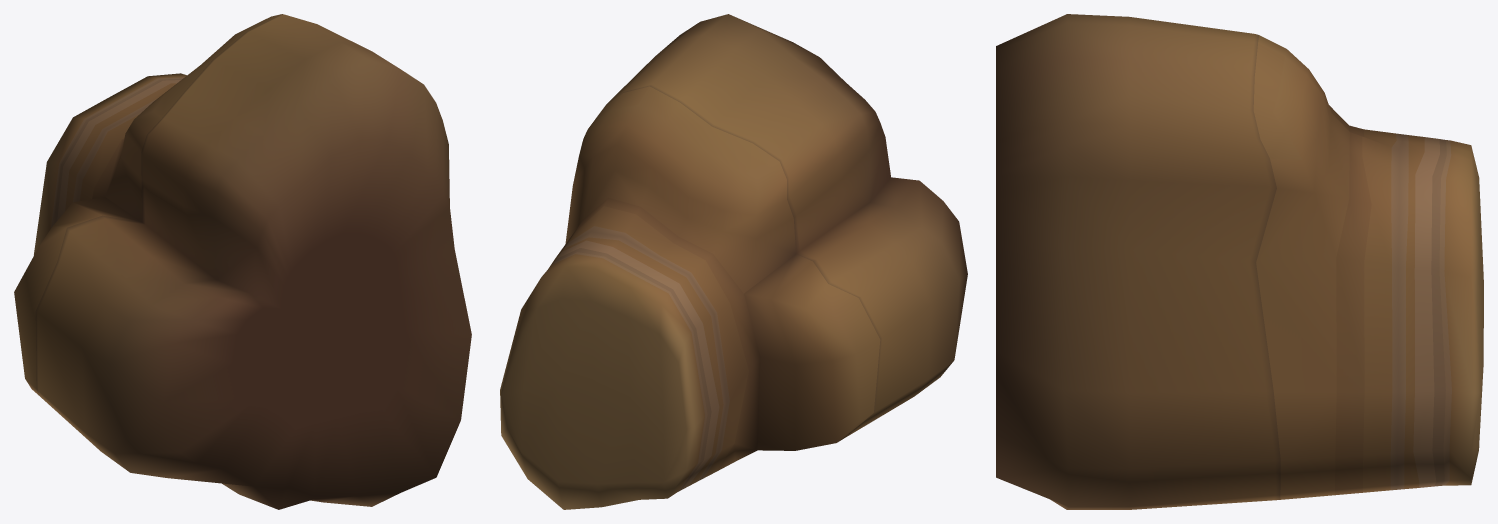
File: SandStoneMesaLarge.003.glb
3 views of the same model, side by side, from view 1: azimuth 30°, elevation 25°; view 2: azimuth 150°, elevation 25°; view 3: azimuth 270°, elevation 25° (orthographic). The views are drawn at different scales.
Visible parts, largest first — view 1: SandStoneMesaLarge.003; view 2: SandStoneMesaLarge.003; view 3: SandStoneMesaLarge.003.
Boxes of the visible parts, box(x1,y1,x2,y2) form: SandStoneMesaLarge.003: box(14, 14, 471, 509); SandStoneMesaLarge.003: box(500, 14, 967, 509); SandStoneMesaLarge.003: box(996, 14, 1483, 509).
Size of the model in its own units: 3489 by 4218 by 3843.
